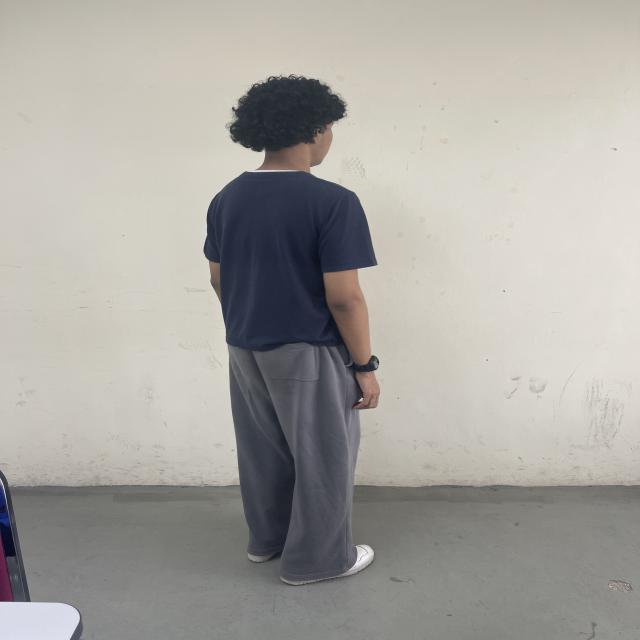person_without_labcoat: (204, 76, 380, 585)
